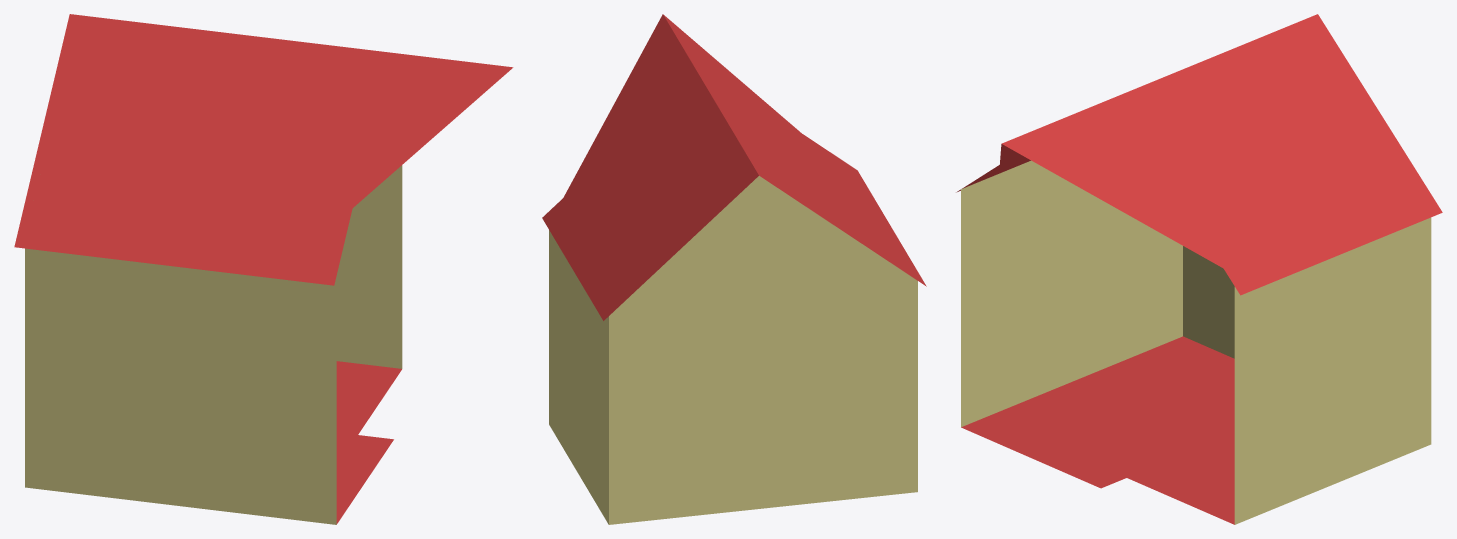
The picture shows the model from 3 angles, left to right: view 1: azimuth 30°, elevation 25°; view 2: azimuth 150°, elevation 25°; view 3: azimuth 270°, elevation 25°; orthographic projection. The views are drawn at different scales.
Bounding box in the file's own units: 14.18 × 14.91 × 12.69.
